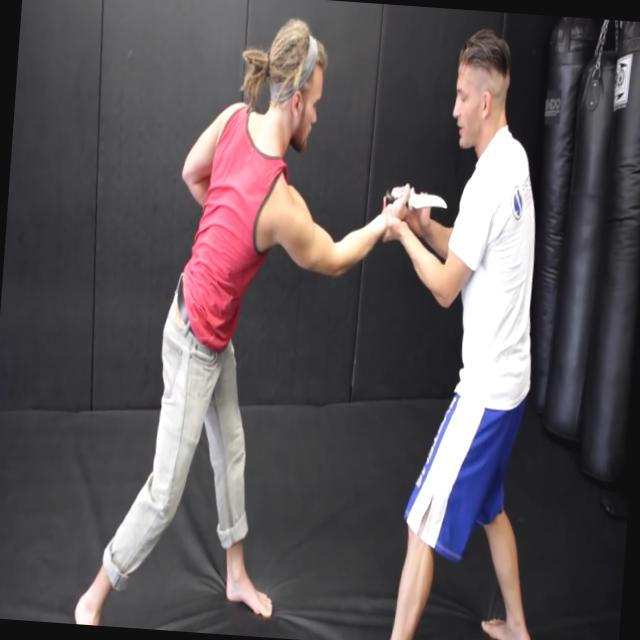knife: (376, 168, 456, 220)
